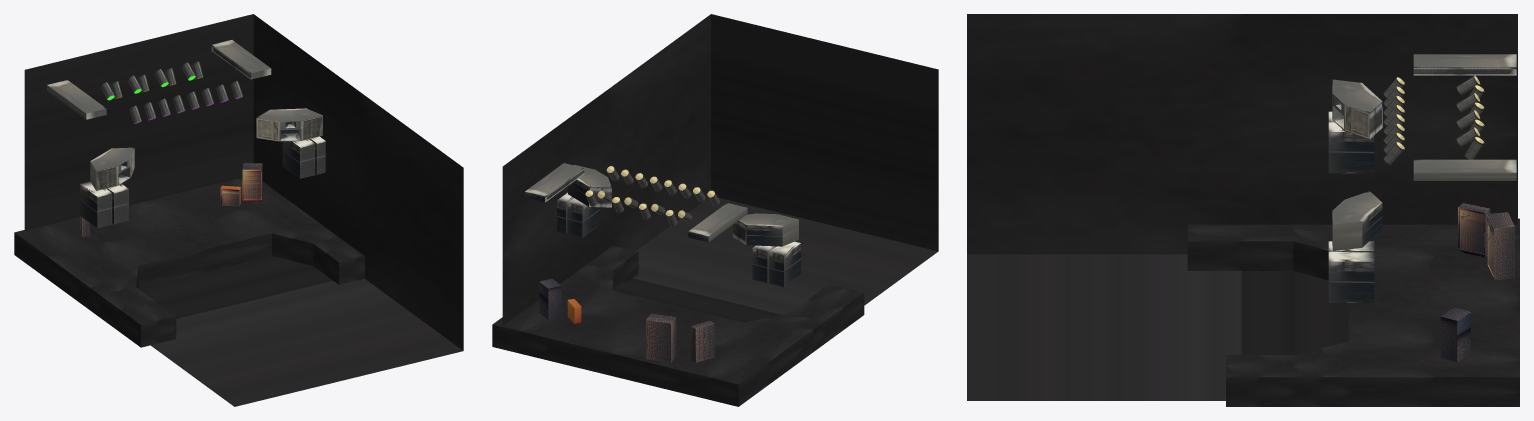
The picture shows the model from 3 angles, left to right: view 1: azimuth 30°, elevation 25°; view 2: azimuth 150°, elevation 25°; view 3: azimuth 270°, elevation 25°; orthographic projection. The views are drawn at different scales.
Parts seen in each view (by area): view 1: Wall_4, Stage_3, Speaker_7, Speaker_Float_5, Aircom_6, LightBox.002_13, Amp_8, LightBox.003_14, LightBox_12, Amp.002_9; view 2: Wall_4, Stage_3, Speaker_Float_5, Speaker_7, Aircom_6, Amp.003_11, LightBox.002_13, Amp.001_10, Amp_8, LightBox_12, LightBox.003_14; view 3: Wall_4, Stage_3, Speaker_7, Speaker_Float_5, Aircom_6, Amp.003_11, Amp_8, Amp.001_10, LightBox.002_13, LightBox.003_14, LightBox_12.
Part boxes in pixels (x1,y1,x2,y2): Wall_4: [24, 14, 463, 406]; Stage_3: [14, 177, 364, 347]; Speaker_7: [90, 108, 322, 190]; Speaker_Float_5: [80, 136, 325, 228]; Aircom_6: [47, 40, 271, 119]; LightBox.002_13: [129, 81, 242, 123]; Amp_8: [242, 163, 262, 201]; LightBox.003_14: [100, 62, 195, 100]; LightBox_12: [110, 61, 203, 98]; Amp.002_9: [220, 185, 240, 206]; Wall_4: [502, 14, 938, 325]; Stage_3: [492, 245, 864, 406]; Speaker_Float_5: [557, 192, 800, 286]; Speaker_7: [568, 164, 798, 246]; Aircom_6: [525, 163, 747, 242]; Amp.003_11: [646, 313, 676, 362]; LightBox.002_13: [606, 166, 719, 205]; Amp.001_10: [691, 320, 714, 362]; Amp_8: [539, 278, 561, 319]; LightBox_12: [585, 190, 677, 226]; LightBox.003_14: [597, 190, 691, 221]; Wall_4: [967, 14, 1517, 400]; Stage_3: [1187, 218, 1519, 406]; Speaker_7: [1332, 79, 1382, 250]; Speaker_Float_5: [1328, 111, 1374, 302]; Aircom_6: [1413, 54, 1516, 180]; Amp.003_11: [1487, 212, 1514, 280]; Amp_8: [1440, 307, 1470, 362]; Amp.001_10: [1458, 203, 1490, 257]; LightBox.002_13: [1383, 77, 1404, 164]; LightBox.003_14: [1456, 75, 1480, 147]; LightBox_12: [1464, 85, 1484, 159].
Size of the model in its own units: 10.46 by 7.39 by 15.4.
Materials: 8 (5 with a texture image).
